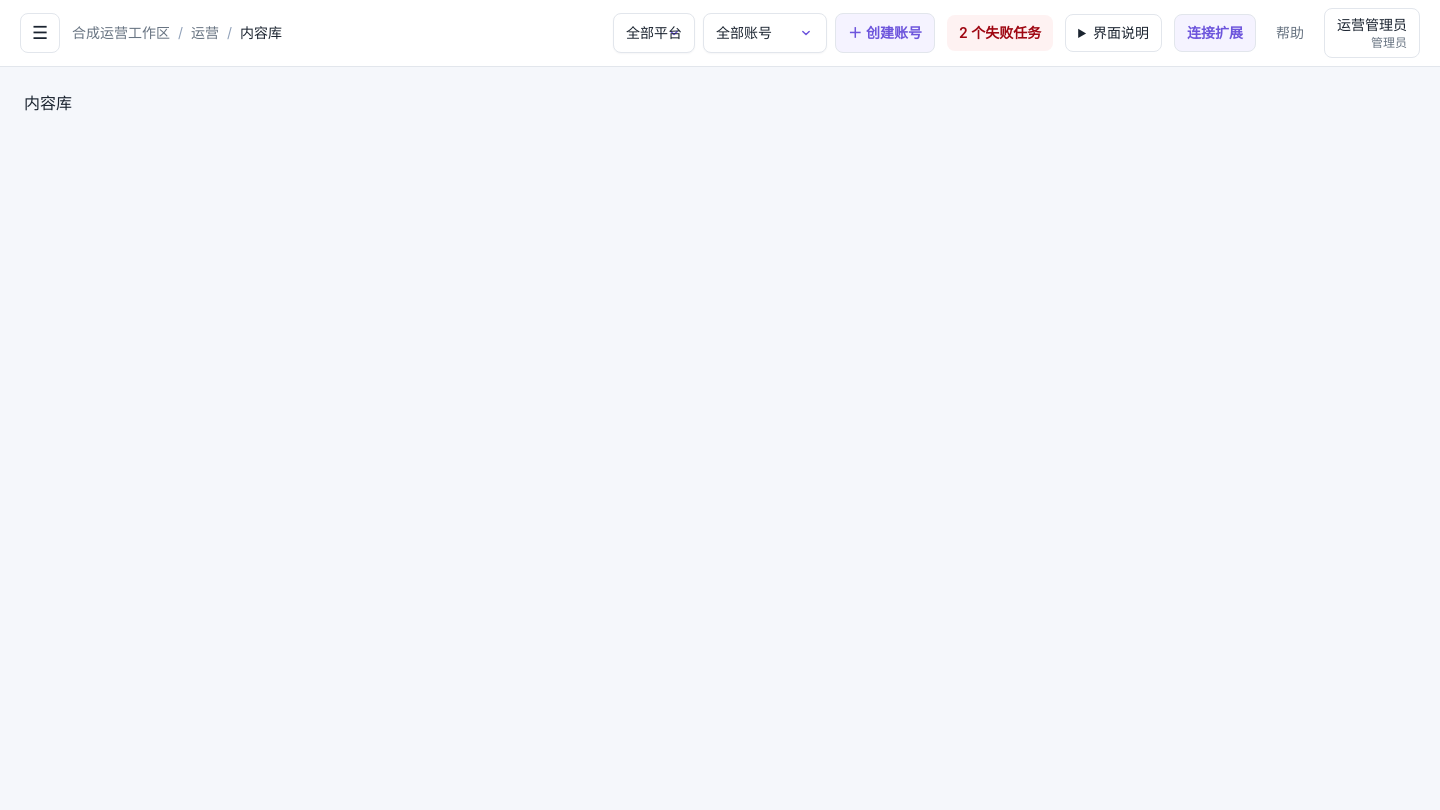
it: workspace shell behavior › closes the mobile drawer after the route changes
Click the button named "打开主导航": (40, 33) 20,13 -> 60,53
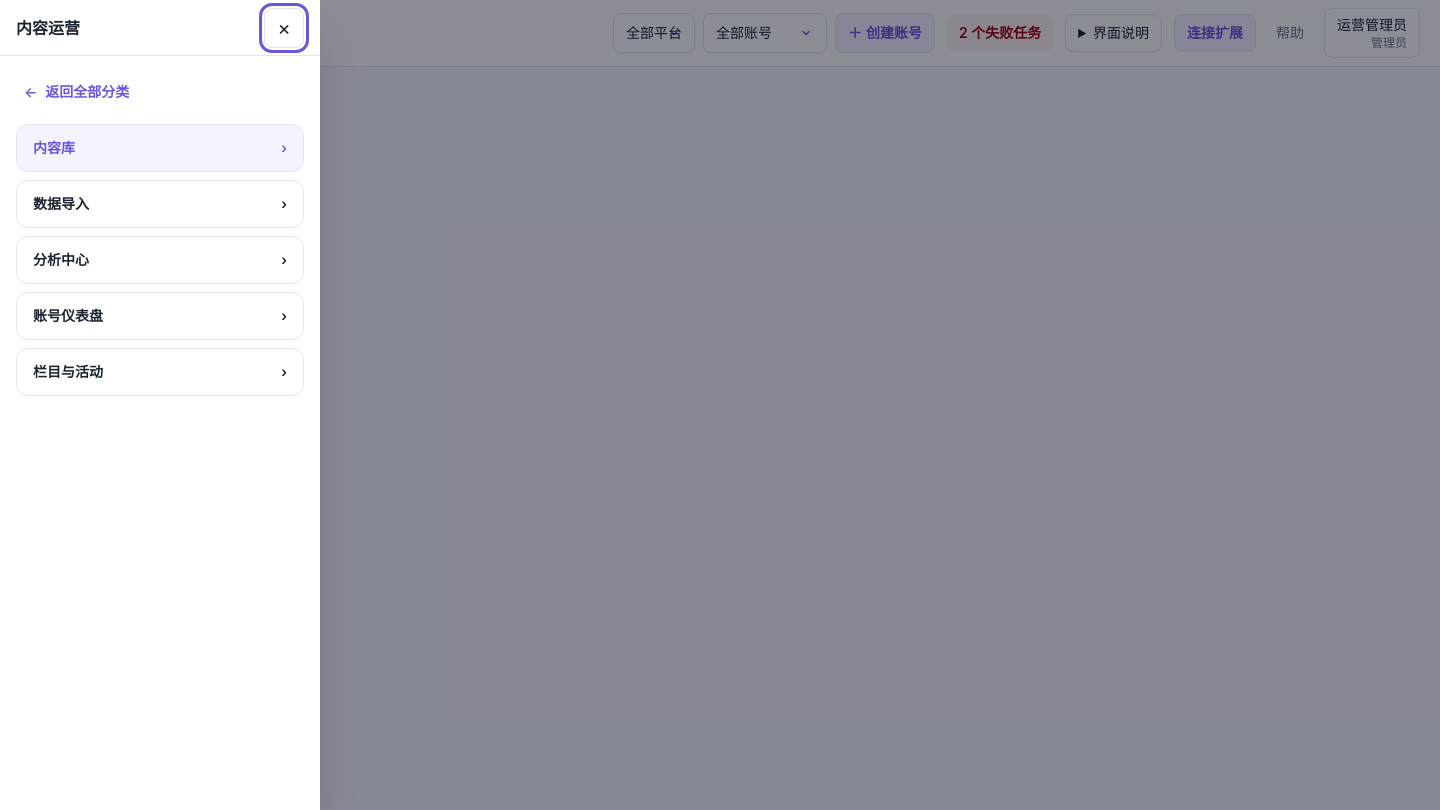
Expected: the dialog named "主导航" is shown, 0,0 -> 320,809
